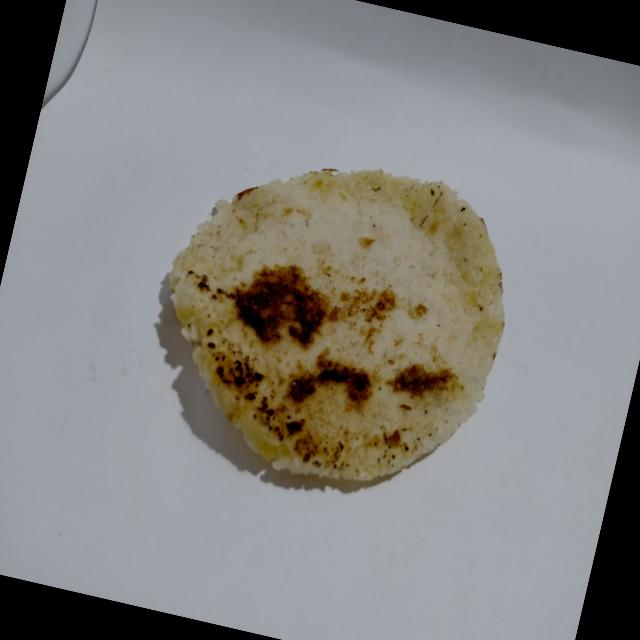Mbeju: (121, 119, 538, 526)
